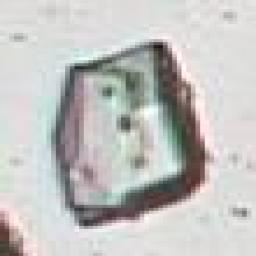crystals: (35, 39, 213, 227)
